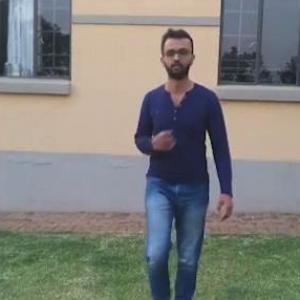follow: (135, 34, 214, 288)
